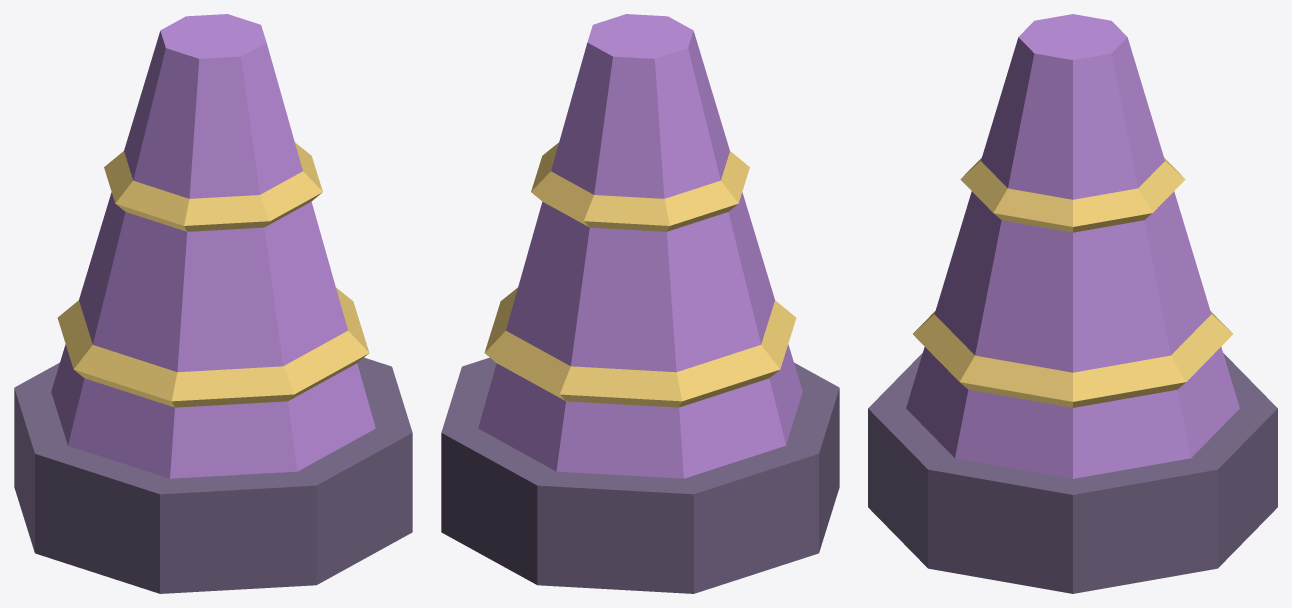
The model's file is Siren_HorizonConch_Blockout.fbx.
The picture shows the model from 3 angles, left to right: view 1: azimuth 30°, elevation 25°; view 2: azimuth 150°, elevation 25°; view 3: azimuth 270°, elevation 25°; orthographic projection.
Parts seen in each view (by area): view 1: Siren_HorizonConch; view 2: Siren_HorizonConch; view 3: Siren_HorizonConch.
Part boxes in pixels (<box>): Siren_HorizonConch: <box>14,14,412,593</box>; Siren_HorizonConch: <box>441,14,839,593</box>; Siren_HorizonConch: <box>868,14,1277,593</box>.
Size of the model in its own units: 0.6 by 0.76 by 0.6.
